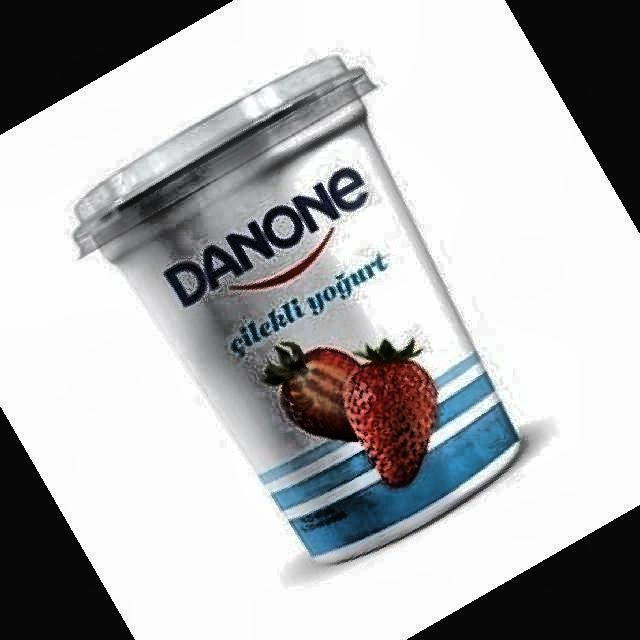plastic: (74, 56, 520, 562)
